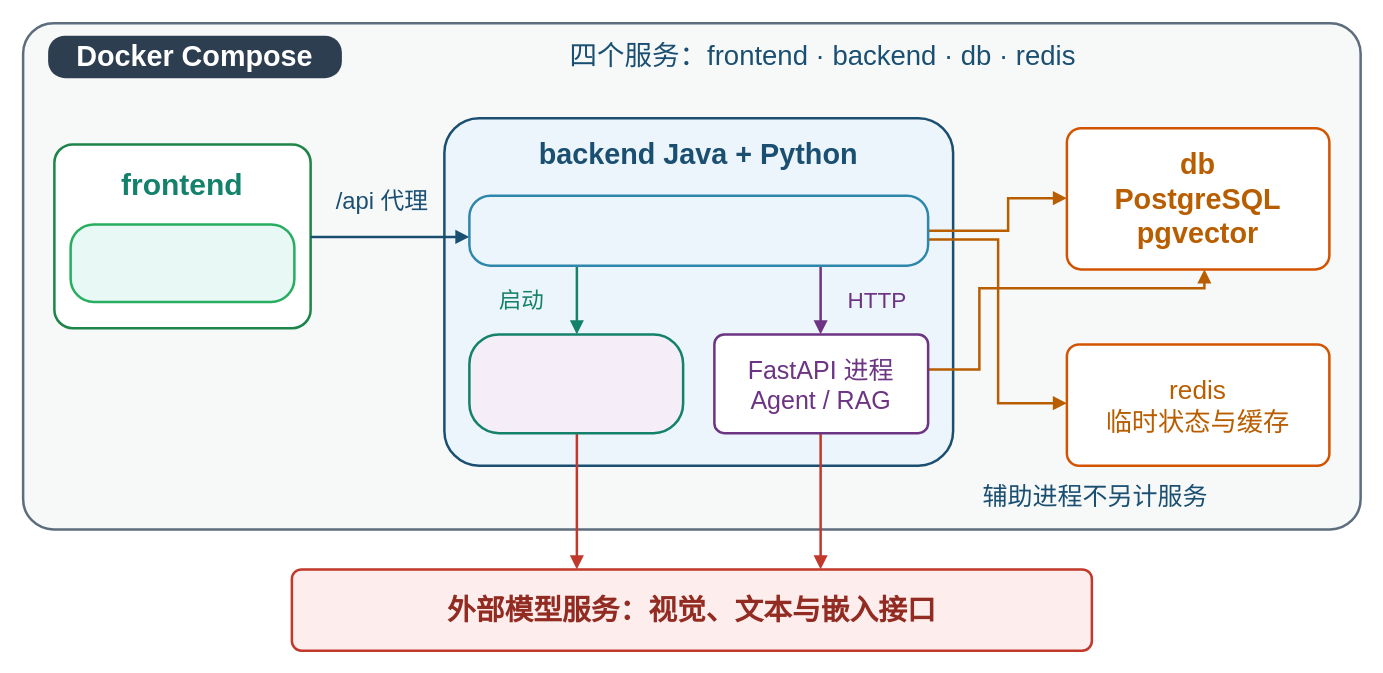
Image size: 1383x673. Some labels were removed from this diagram. Here are the shapes that lost their labels. From the top down, the box of each, then its label:
(468, 194, 929, 266): Spring Boot 业务服务
(69, 222, 295, 302): Nginx Vue 静态资源
(468, 332, 684, 434): 任务子进程 OCR / 视觉 / 预测
